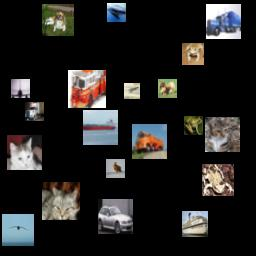airplane: (107, 3, 126, 22), (11, 79, 30, 98), (124, 83, 140, 99)
automobile: (98, 199, 133, 234)
bird: (2, 214, 34, 246), (106, 159, 125, 178)
cat: (42, 182, 80, 220), (205, 117, 240, 152), (7, 135, 42, 170)
dog: (42, 4, 74, 36), (158, 79, 177, 98)
frog: (202, 164, 234, 196), (182, 43, 204, 65), (184, 116, 203, 135)
ship: (83, 110, 118, 145), (182, 211, 208, 237)
truck: (68, 70, 106, 108), (132, 124, 167, 159), (206, 4, 241, 39), (25, 102, 44, 121)
